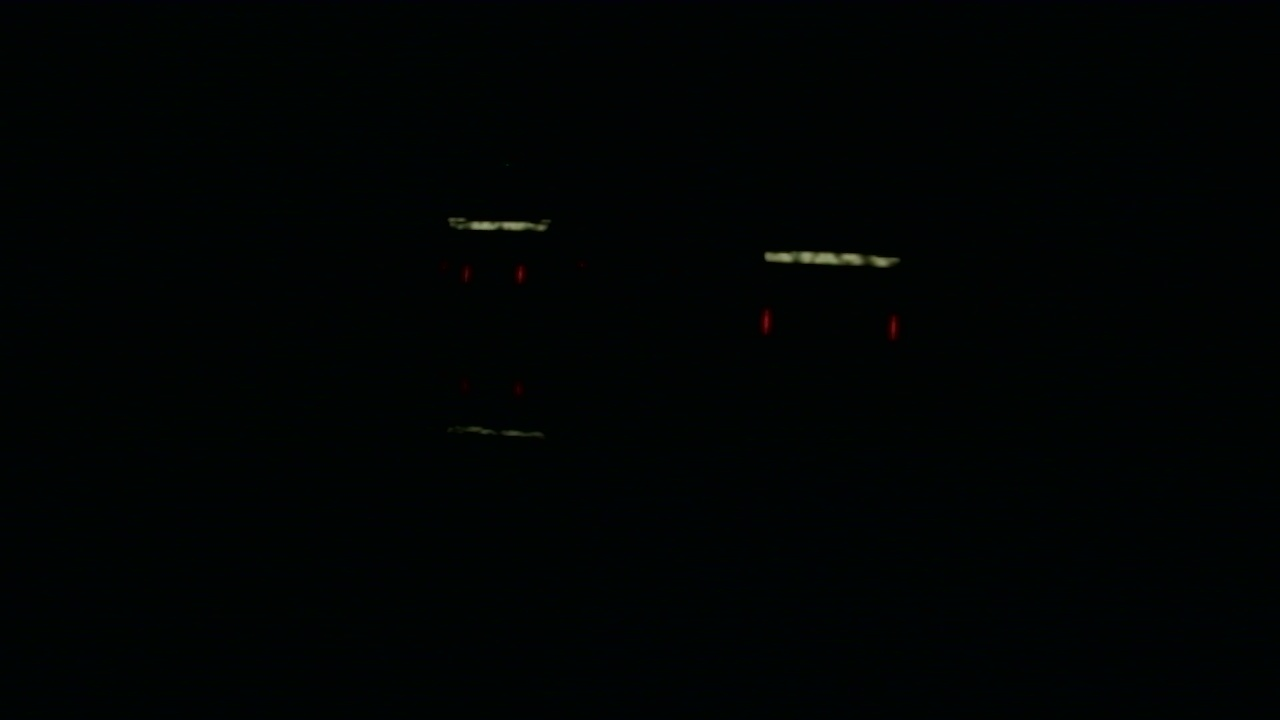lamp: (761, 308, 769, 338), (892, 309, 899, 337), (463, 263, 468, 279), (518, 264, 523, 279)
pair1: (463, 265, 523, 279)
pair2: (761, 308, 900, 343)
